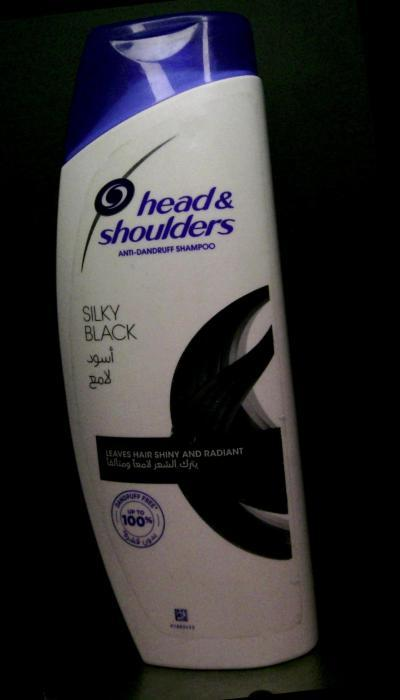tear_marg: (276, 564, 318, 604)
